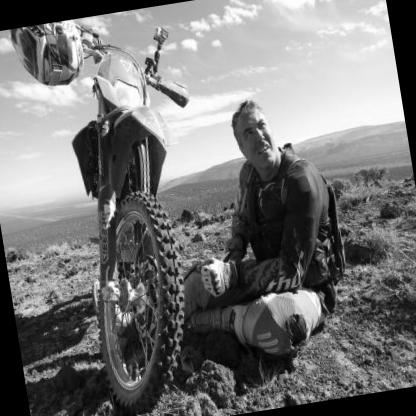moto: (47, 31, 243, 416)
